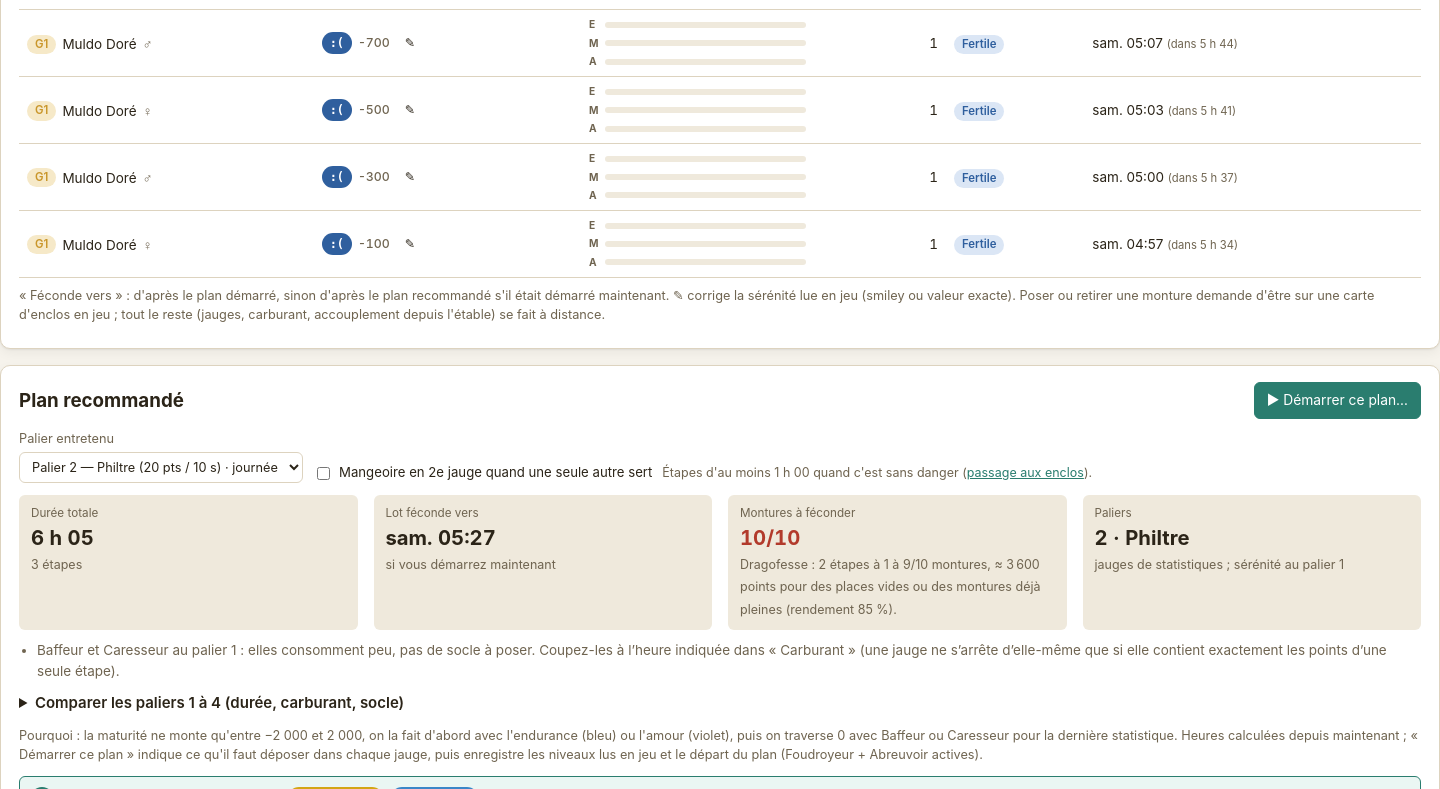
Scenario: Enclos — démarrer un plan (ux F3) › le dialogue indique quoi déposer, enregistre les niveaux lus et les paliers du plan
Later steps or results of the test are not shown.
(page scrolled)
Click the button "▶ Démarrer ce plan…" at (1337, 401), box 1254,382 -> 1421,419
(page scrolled)
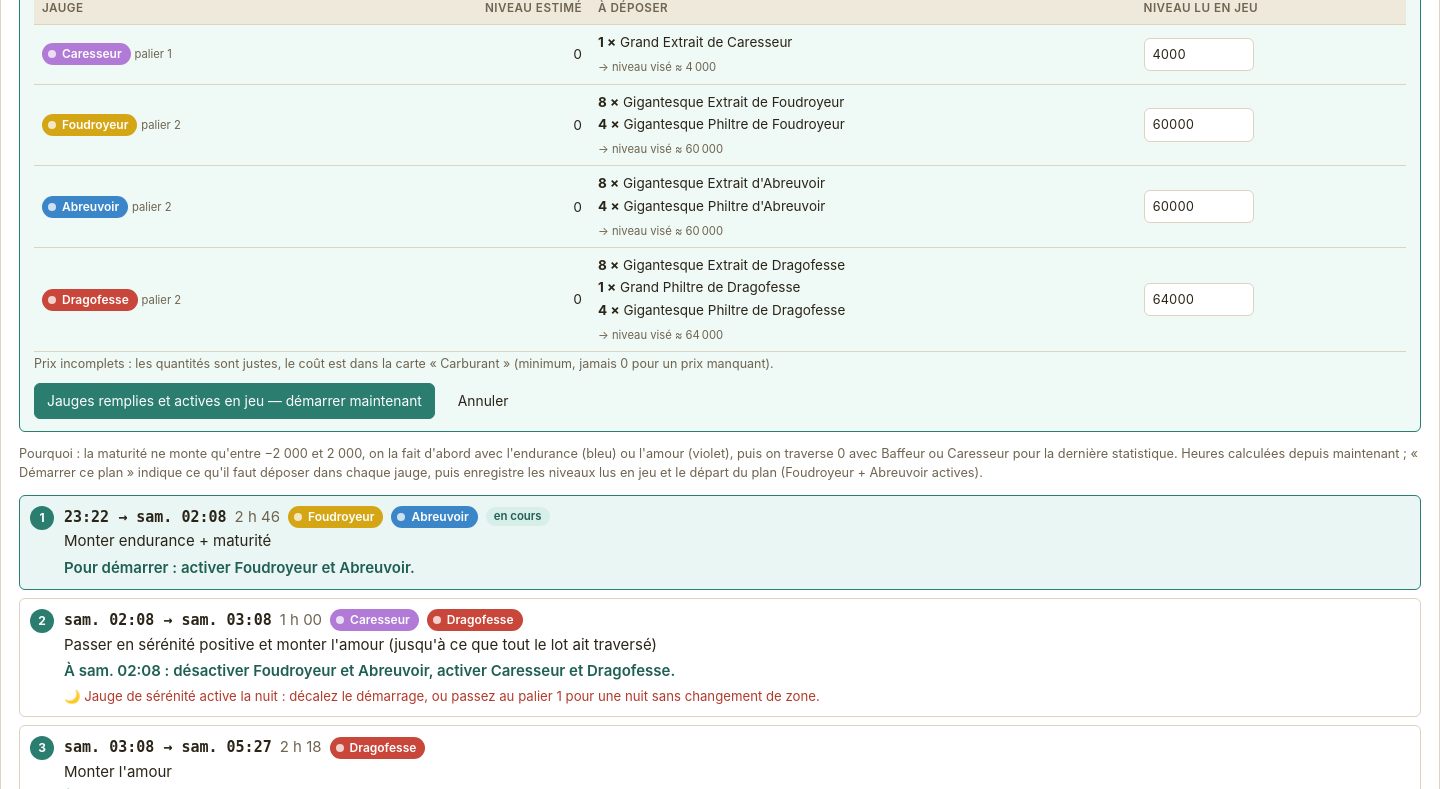
Result: the 1st text "1 ×" is shown at 598,34 -> 616,50
